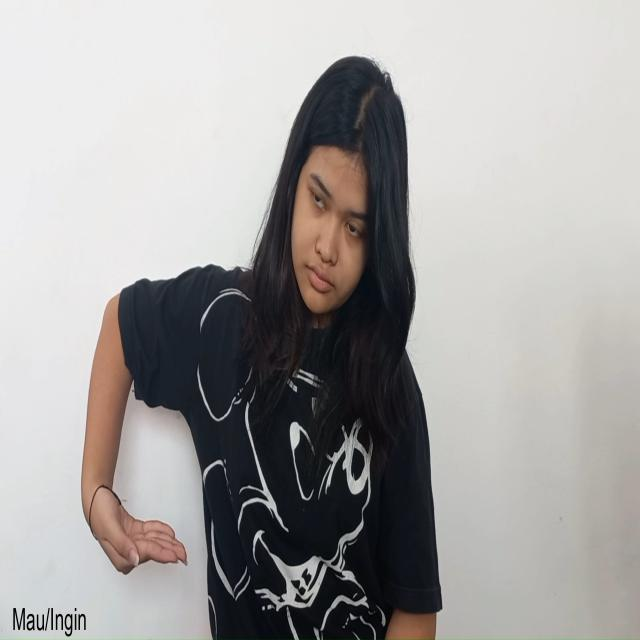Mau-Ingin -BISINDO-: (86, 479, 190, 579)
